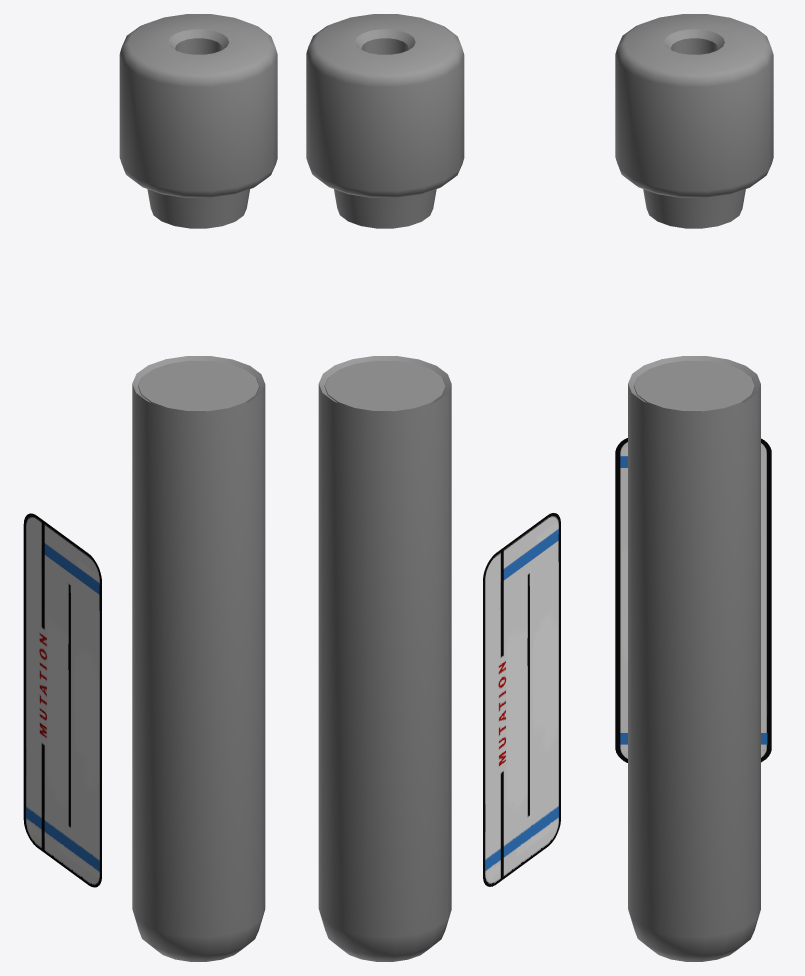
3 renders of one model, left to right at view 1: azimuth 30°, elevation 25°; view 2: azimuth 150°, elevation 25°; view 3: azimuth 270°, elevation 25°, orthographic.
Visible parts, largest first — view 1: test_tube, Cap, Plane001, Liquid; view 2: test_tube, Cap, Plane001, Liquid; view 3: test_tube, Cap, Plane001, Liquid.
Boxes of the visible parts, x1=… form: test_tube: x1=132, y1=356, x2=265, y2=961; Cap: x1=119, y1=14, x2=277, y2=228; Plane001: x1=23, y1=513, x2=101, y2=887; Liquid: x1=138, y1=360, x2=258, y2=411; test_tube: x1=318, y1=356, x2=451, y2=961; Cap: x1=306, y1=14, x2=464, y2=228; Plane001: x1=483, y1=513, x2=560, y2=886; Liquid: x1=325, y1=360, x2=445, y2=411; test_tube: x1=628, y1=356, x2=760, y2=961; Cap: x1=615, y1=14, x2=773, y2=228; Plane001: x1=615, y1=438, x2=771, y2=762; Liquid: x1=634, y1=360, x2=754, y2=411.
Bounding box in the file's own units: 0.0306 × 0.1303 × 0.025.
